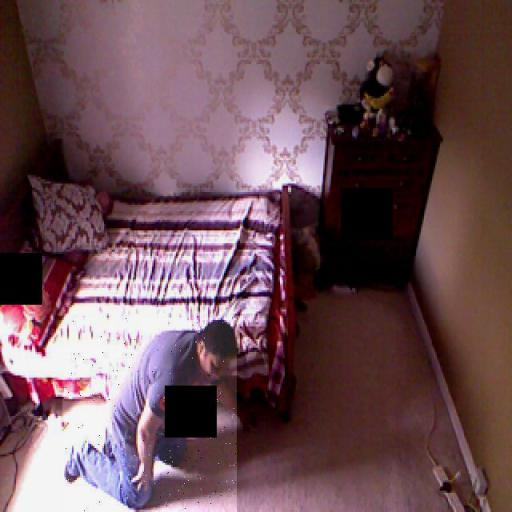Fall: (62, 317, 236, 512)
